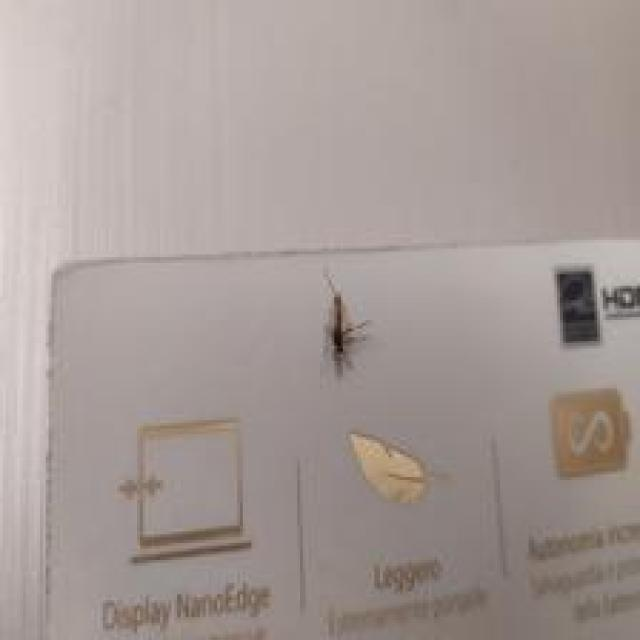Culex: (320, 269, 369, 377)
